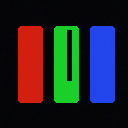4 line_v: (67, 30, 71, 80)
